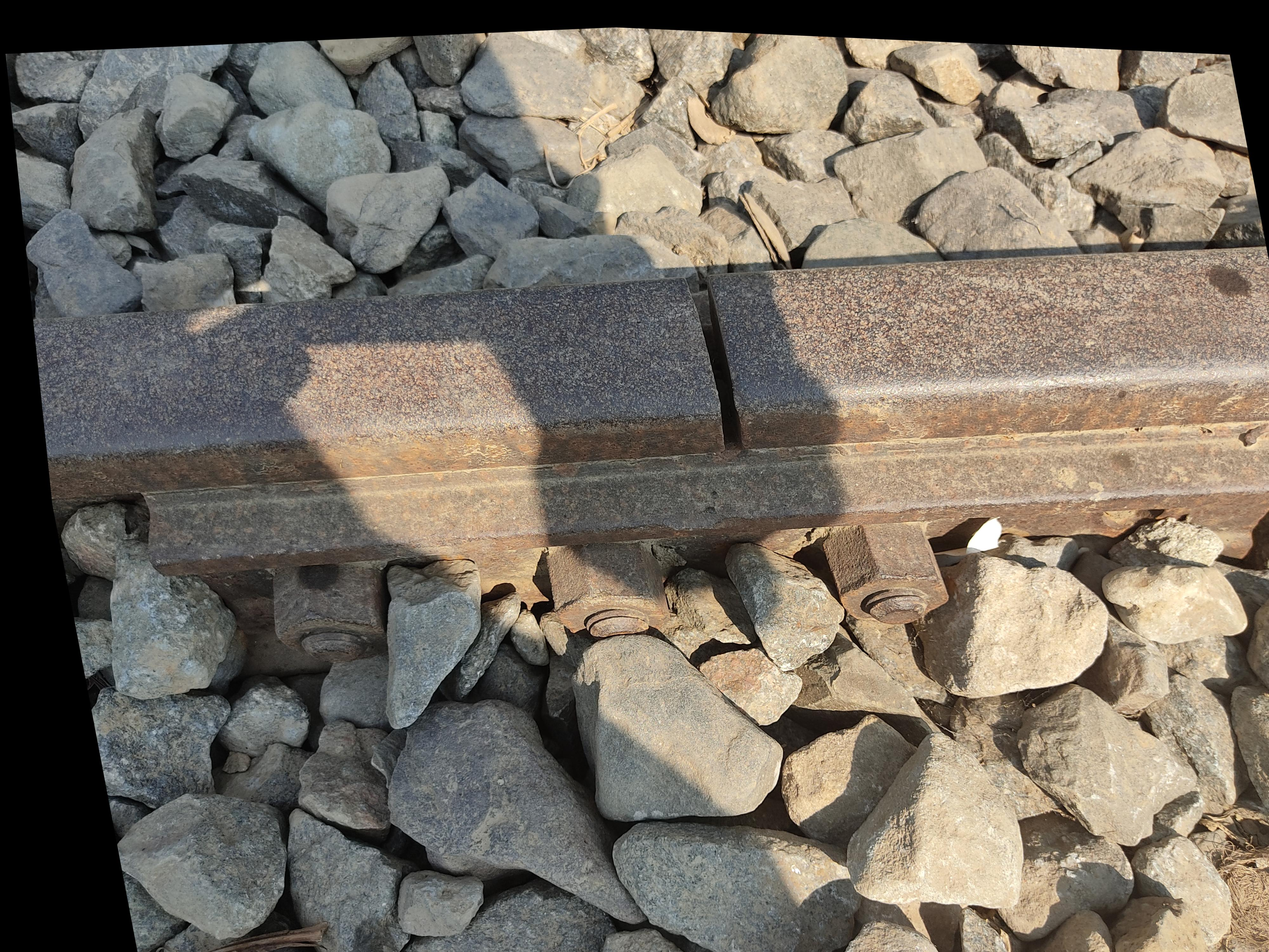person: (520, 288, 837, 552)
